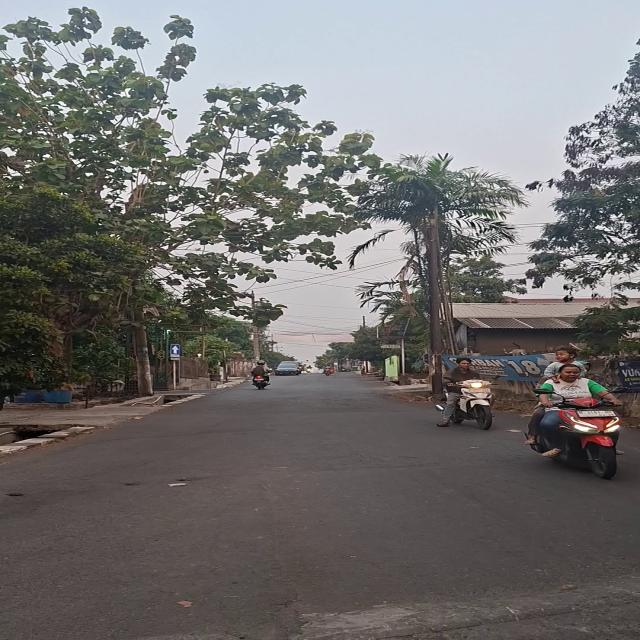WithHelmet: (250, 360, 273, 386)
WithoutHelmet: (519, 346, 632, 484), (436, 352, 505, 439)
